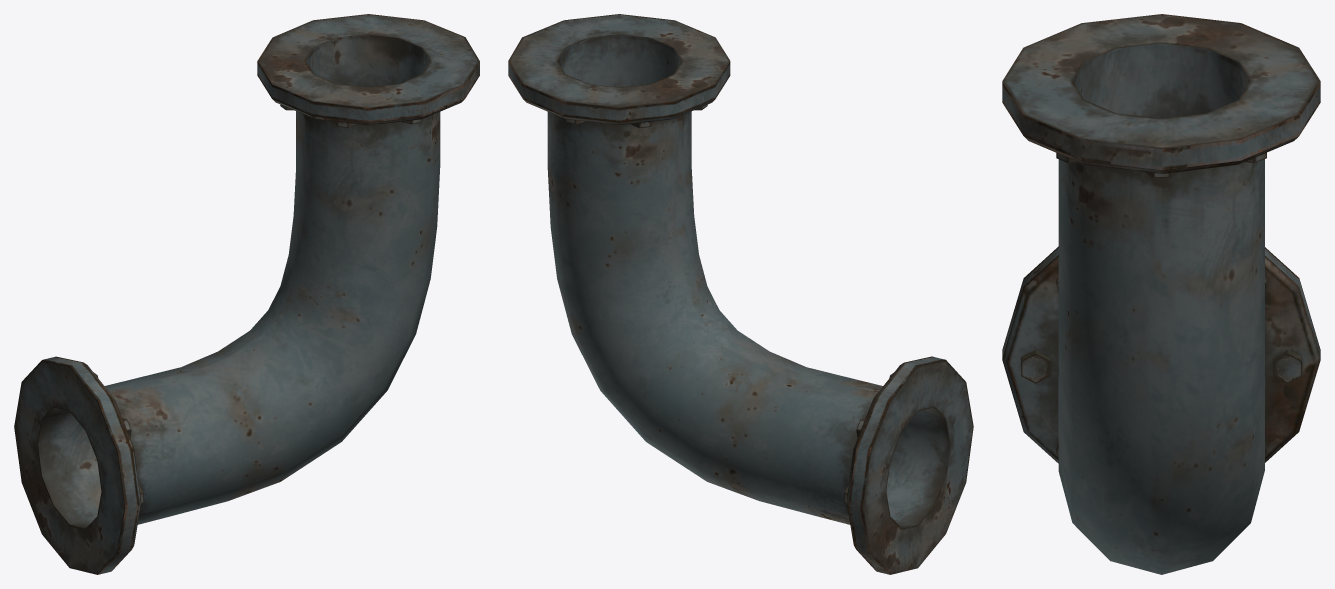
The model's file is pipe_pipe04.fbx.
3 views of the same model, side by side, from view 1: azimuth 30°, elevation 25°; view 2: azimuth 150°, elevation 25°; view 3: azimuth 270°, elevation 25° (orthographic). The views are drawn at different scales.
Visible parts, largest first — view 1: modular_industrial_pipes_01_group01__modular_industrial_pipe; view 2: modular_industrial_pipes_01_group01__modular_industrial_pipe; view 3: modular_industrial_pipes_01_group01__modular_industrial_pipe.
Part boxes in pixels (<box>): modular_industrial_pipes_01_group01__modular_industrial_pipe: <box>14,14,479,574</box>; modular_industrial_pipes_01_group01__modular_industrial_pipe: <box>508,14,973,574</box>; modular_industrial_pipes_01_group01__modular_industrial_pipe: <box>1002,14,1320,574</box>.
Size of the model in its own units: 0.4241 by 0.4446 by 0.2063.
